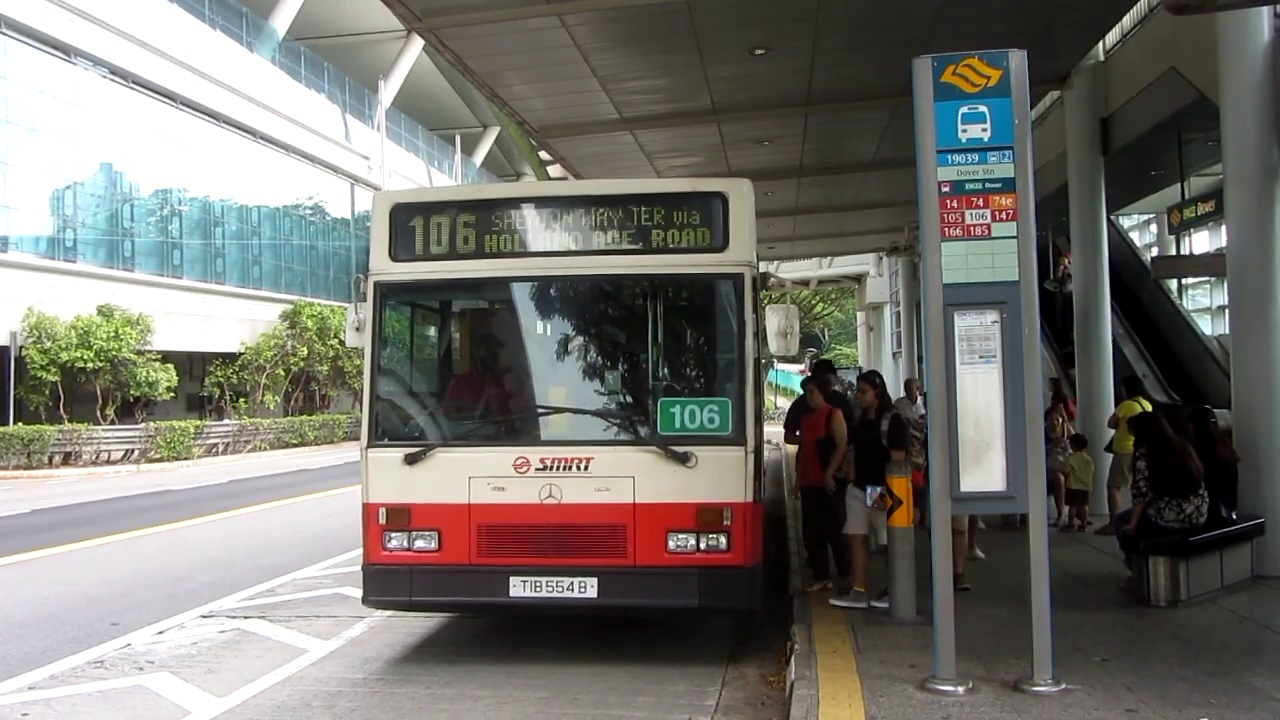bus panel: (386, 189, 733, 265)
